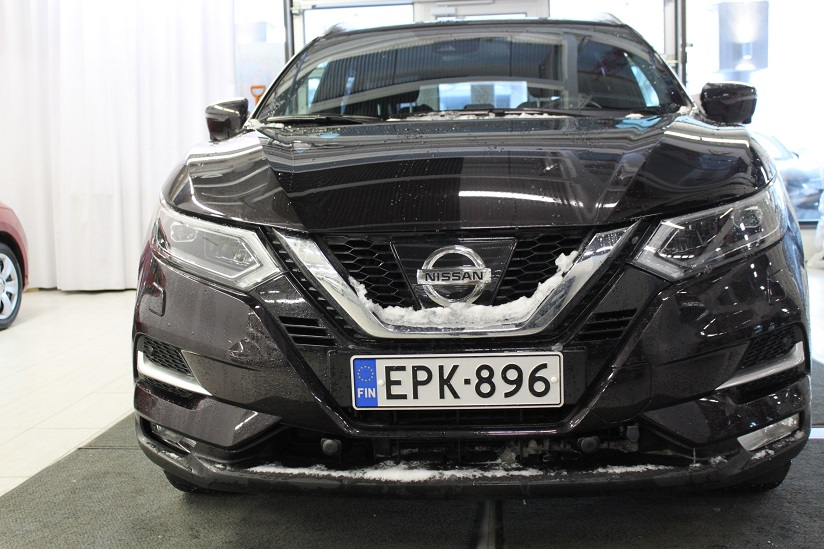license: (350, 354, 565, 414)
